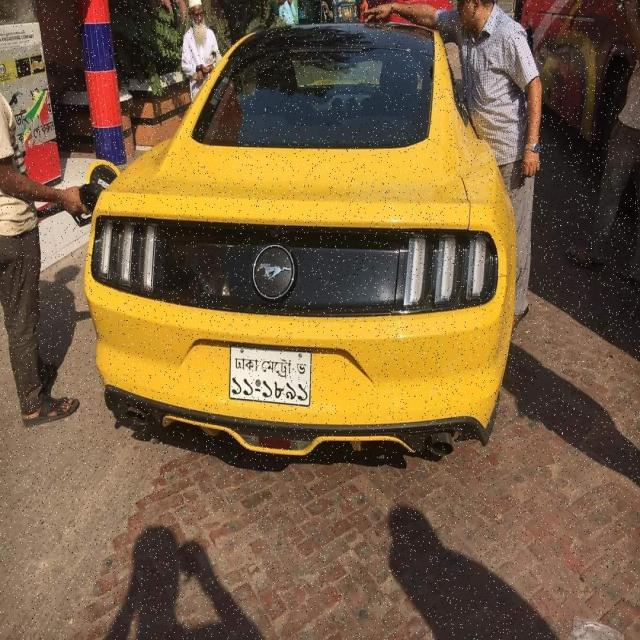numberplate: (227, 344, 311, 406)
